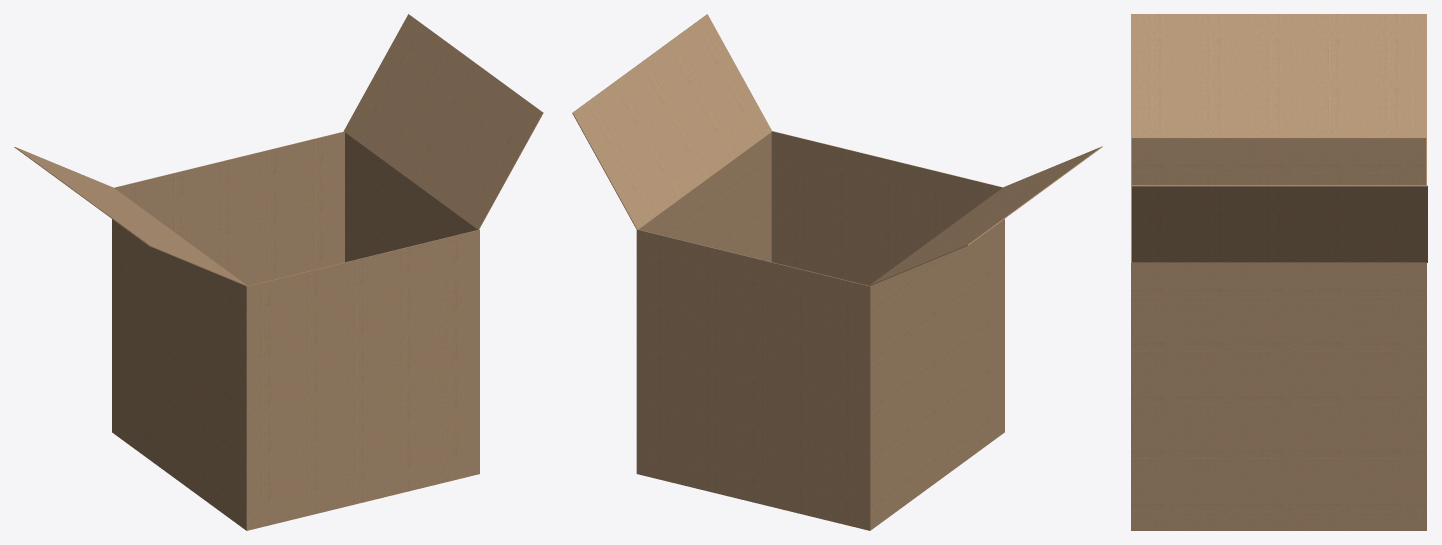
File: boxes.fbx
The picture shows the model from 3 angles, left to right: view 1: azimuth 30°, elevation 25°; view 2: azimuth 150°, elevation 25°; view 3: azimuth 270°, elevation 25°; orthographic projection. The views are drawn at different scales.
Parts seen in each view (by area): view 1: boxx; view 2: boxx; view 3: boxx.
Part boxes in pixels (x1,y1,x2,y2): boxx: (14,14,543,530); boxx: (572,14,1102,530); boxx: (1131,14,1427,530).
Bounding box in the file's own units: 169 × 142 × 100.
